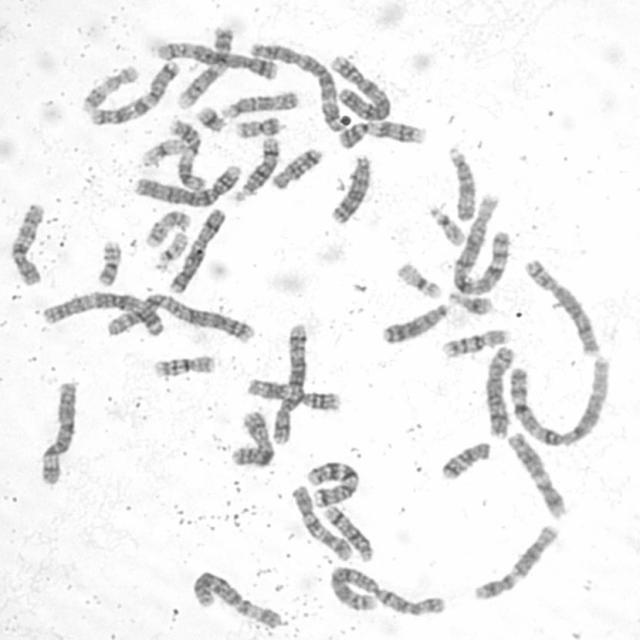A1: (505, 353, 614, 450), (448, 190, 512, 297)
A2: (101, 290, 258, 345), (325, 563, 448, 618)
A3: (245, 39, 349, 132), (38, 288, 168, 338)
B4: (131, 161, 243, 209), (318, 51, 394, 119)
B5: (153, 39, 279, 81), (270, 320, 310, 446)
C10: (289, 481, 355, 563), (8, 200, 47, 288)
C11: (244, 375, 343, 413), (167, 114, 205, 192)
C12: (470, 521, 560, 602), (504, 428, 569, 521)
C6: (188, 566, 284, 630), (36, 378, 80, 486)
C7: (86, 57, 182, 127), (303, 457, 362, 509)
C8: (522, 255, 602, 358), (482, 343, 516, 441)
C9: (173, 23, 234, 110), (334, 116, 428, 150)
D13: (378, 297, 454, 345), (327, 151, 374, 226)
D14: (232, 133, 282, 202), (321, 502, 375, 564)
D15: (444, 142, 478, 222), (220, 89, 300, 120)
E16: (439, 326, 511, 360), (150, 352, 218, 380)
E17: (77, 62, 141, 115), (143, 208, 194, 249)
E18: (268, 145, 323, 191), (436, 438, 492, 482)
F19: (394, 259, 444, 300), (139, 136, 184, 166)
F20: (93, 237, 123, 287), (233, 113, 283, 140)
G21: (447, 290, 495, 316), (194, 102, 228, 134)
G22: (426, 203, 466, 247), (151, 228, 191, 270)
X: (166, 205, 228, 296), (227, 408, 275, 468)
